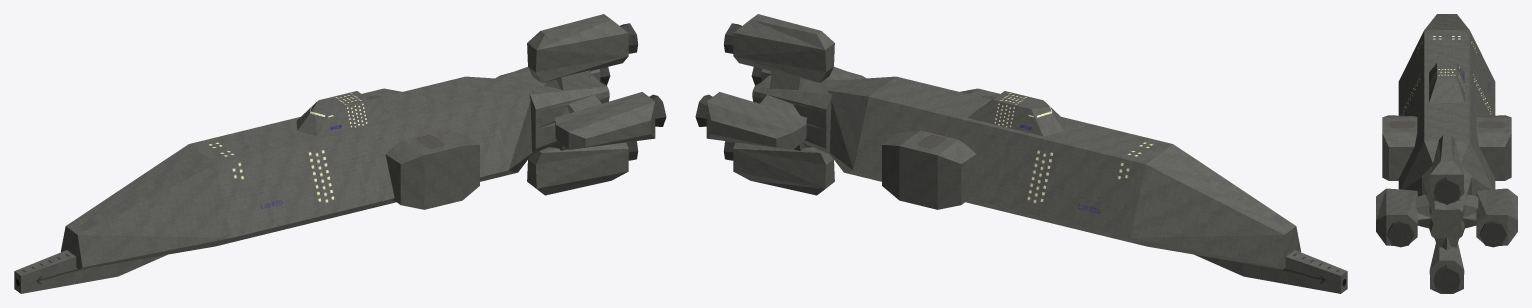
Rendered from spaceship.dae.
3 views of the same model, side by side, from view 1: azimuth 30°, elevation 25°; view 2: azimuth 150°, elevation 25°; view 3: azimuth 270°, elevation 25° (orthographic). The views are drawn at different scales.
Parts seen in each view (by area): view 1: Cube, SidePod_001, EnginePod, EnginePod_003, EnginePod_001, FrontBit, TopBit, EngineMiddleBlock, EnginePylon; view 2: Cube, SidePod, EnginePod, EnginePod_002, EnginePod_001, FrontBit, TopBit, EngineMiddleBlock, EnginePylon; view 3: Cube, SidePod_001, SidePod, EngineMiddleBlock, EnginePod_002, EnginePod_003, TopBit, EnginePod, EnginePod_001, EngineBell, EngineBell_001, EngineBell_002 (+4 smaller).
Part boxes in pixels (<box>): Cube: <box>61,76,533,269</box>; SidePod_001: <box>385,130,479,209</box>; EnginePod: <box>527,14,628,82</box>; EnginePod_003: <box>555,92,655,149</box>; EnginePod_001: <box>527,142,628,195</box>; FrontBit: <box>14,250,167,293</box>; TopBit: <box>296,91,394,136</box>; EngineMiddleBlock: <box>519,75,609,153</box>; EnginePylon: <box>544,70,592,90</box>; Cube: <box>828,76,1300,269</box>; SidePod: <box>882,130,976,209</box>; EnginePod: <box>733,14,834,82</box>; EnginePod_002: <box>706,92,806,149</box>; EnginePod_001: <box>733,142,834,195</box>; FrontBit: <box>1194,250,1347,293</box>; TopBit: <box>967,91,1065,136</box>; EngineMiddleBlock: <box>752,75,842,153</box>; EnginePylon: <box>769,70,817,90</box>; Cube: <box>1398,14,1495,196</box>; SidePod_001: <box>1382,115,1417,180</box>; SidePod: <box>1476,115,1511,180</box>; EngineMiddleBlock: <box>1422,167,1471,238</box>; EnginePod_002: <box>1476,188,1517,245</box>; EnginePod_003: <box>1376,188,1417,245</box>; TopBit: <box>1429,59,1464,102</box>; EnginePod: <box>1429,135,1464,202</box>; EnginePod_001: <box>1429,243,1464,293</box>; EngineBell: <box>1433,177,1460,204</box>; EngineBell_001: <box>1433,265,1460,292</box>; EngineBell_002: <box>1479,221,1506,247</box>.
Bounding box in the file's own units: 15.43 × 3.76 × 3.88.
